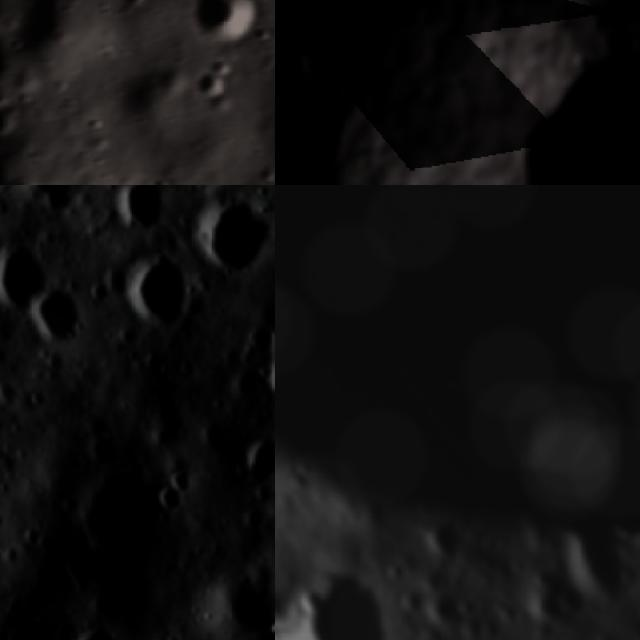crater: (479, 20, 640, 185), (58, 452, 186, 584), (275, 538, 426, 640), (103, 235, 212, 349), (180, 185, 275, 294), (12, 270, 109, 369), (0, 226, 74, 335), (506, 551, 595, 640), (199, 547, 275, 640), (102, 185, 180, 248), (0, 185, 104, 228), (413, 506, 479, 570), (241, 318, 275, 421), (414, 581, 473, 640), (184, 0, 255, 48), (286, 578, 342, 634), (231, 425, 275, 490), (150, 478, 194, 529), (60, 615, 140, 640), (0, 621, 92, 640), (166, 457, 206, 499), (0, 374, 26, 420), (275, 579, 301, 622)
